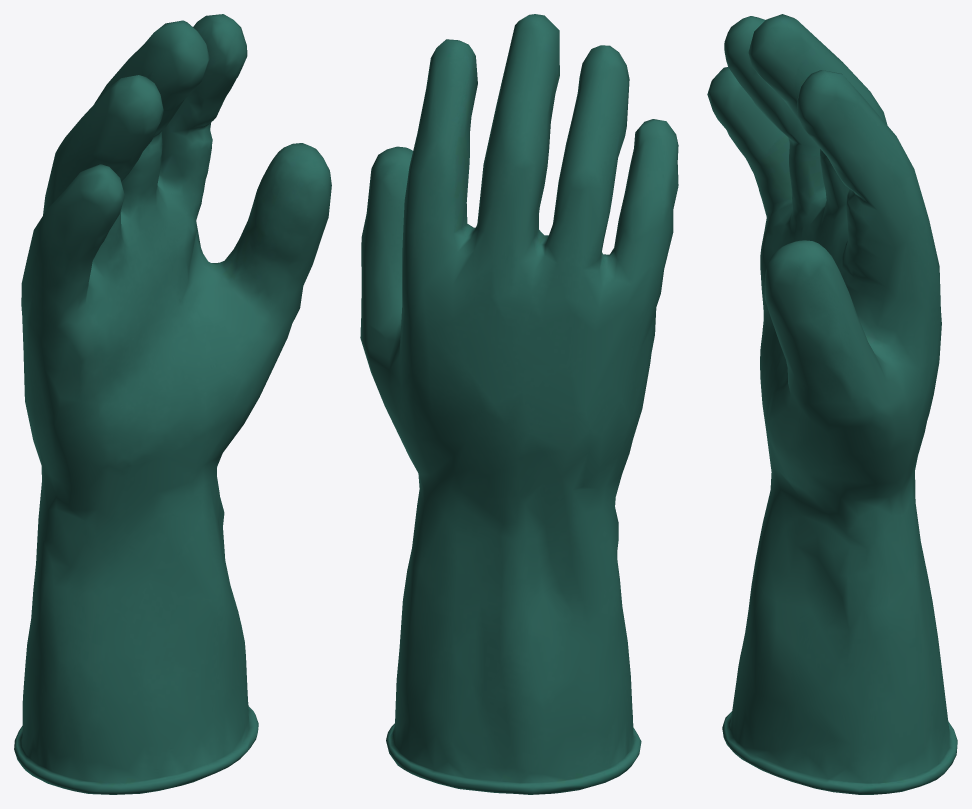
File: PPE_A_Glove_R.fbx
3 views of the same model, side by side, from view 1: azimuth 30°, elevation 25°; view 2: azimuth 150°, elevation 25°; view 3: azimuth 270°, elevation 25° (orthographic). The views are drawn at different scales.
Parts seen in each view (by area): view 1: tripo_node_b287a0f9; view 2: tripo_node_b287a0f9; view 3: tripo_node_b287a0f9.
Part boxes in pixels (box(x1,y1,x2,y2)): tripo_node_b287a0f9: box(14, 14, 331, 794); tripo_node_b287a0f9: box(360, 14, 678, 794); tripo_node_b287a0f9: box(707, 14, 957, 794).
Bounding box in the file's own units: 0.4117 × 0.9794 × 0.3029.
